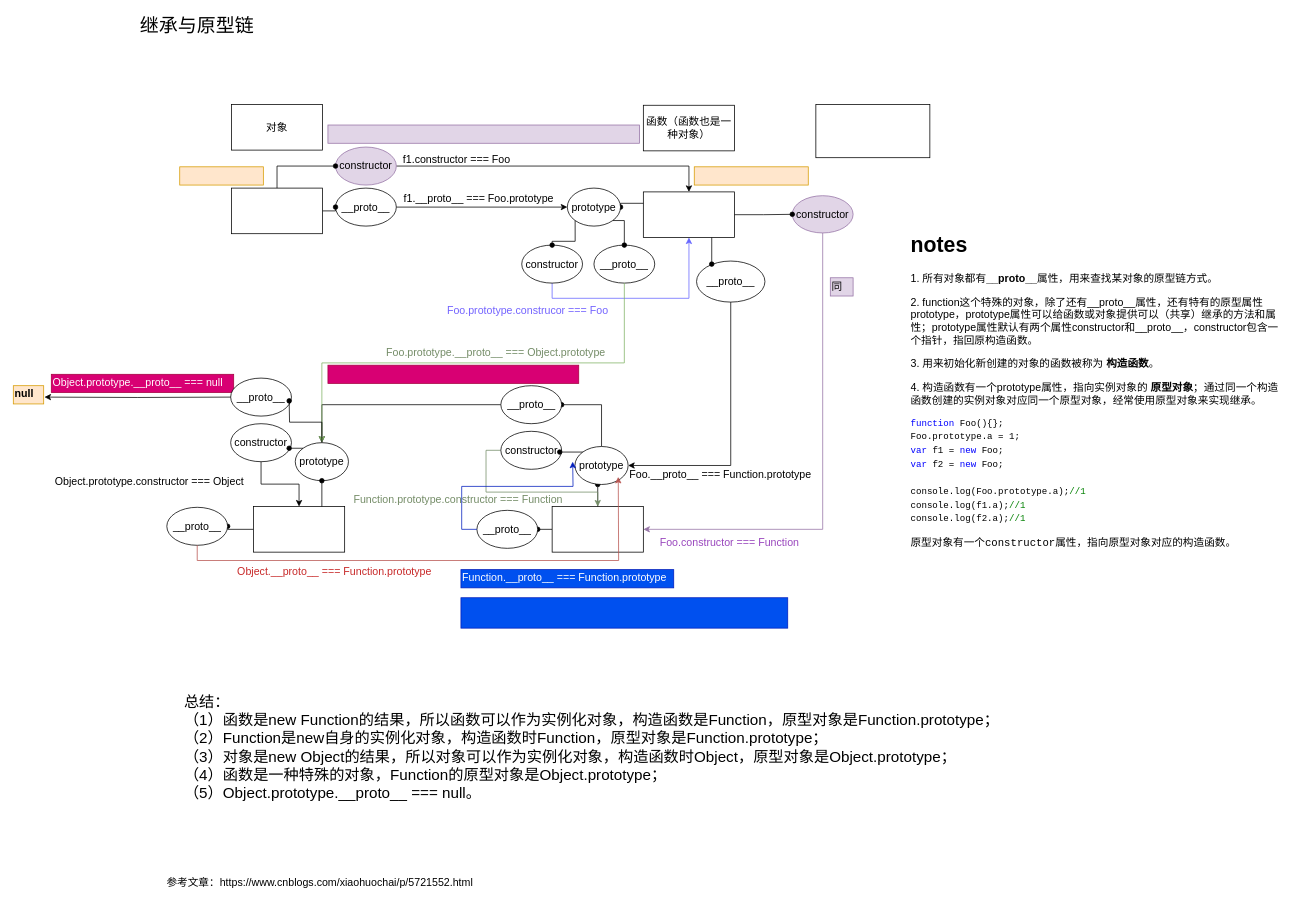
Image size: 1300x905. Some labels were removed from this diagram. The box of each missing label's shape, as (x1, y1, x2, y2) in pixels:
f1: (231, 187, 323, 234)
f1 = new Foo(): (179, 166, 263, 185)
Foo: (643, 191, 735, 238)
Foo = new Function(): (694, 166, 808, 185)
Function: (551, 506, 643, 552)
Function.prototype.__proto__ === Object.prototype: (327, 364, 579, 383)
Object: (253, 506, 345, 552)
代码： function Foo(){} var f1 = new Foo();: (815, 104, 930, 158)
所有函数都可以看作是构造函数Function new操作后的实例化对象； 那么，Function可以看作是调用自身new操作后的实例结果。: (460, 597, 788, 628)
这里的f1.constructor是继承的Foo.prototype，不是f1自带的属性: (327, 124, 640, 143)
